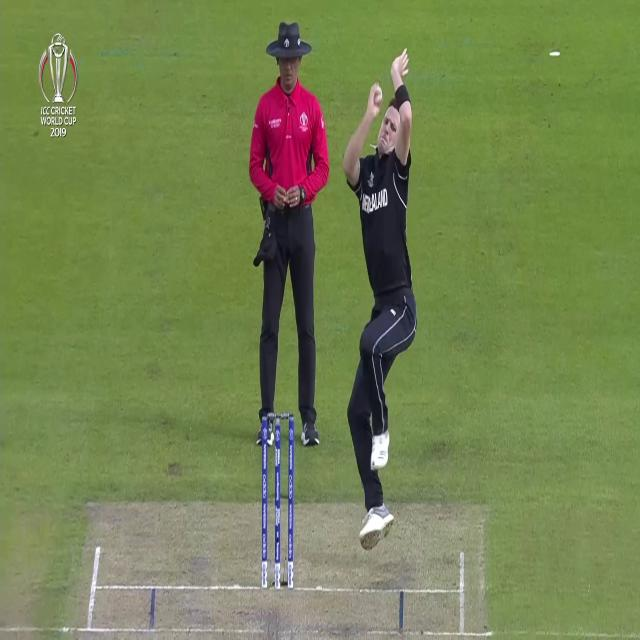ball: (373, 84, 385, 104)
